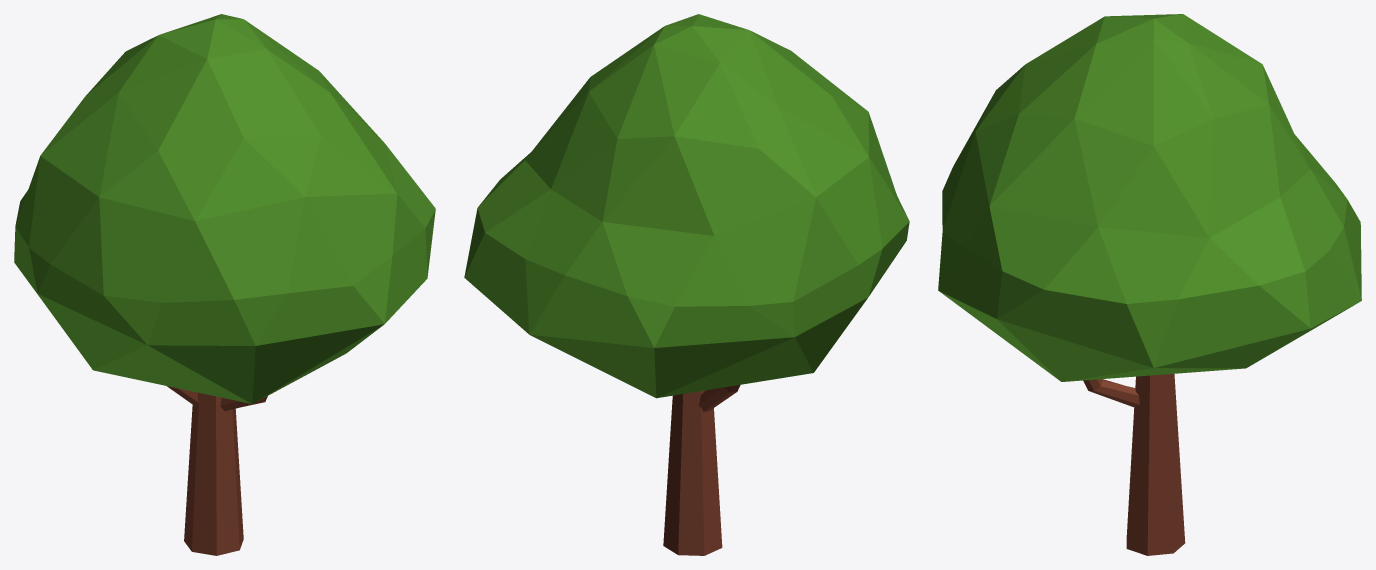
The model's file is TreeRound.fbx.
3 renders of one model, left to right at view 1: azimuth 30°, elevation 25°; view 2: azimuth 150°, elevation 25°; view 3: azimuth 270°, elevation 25°, orthographic.
Visible parts, largest first — view 1: nicertree; view 2: nicertree; view 3: nicertree.
Boxes of the visible parts, box(x1,y1,x2,y2) form: nicertree: box(14, 14, 435, 555); nicertree: box(464, 14, 909, 555); nicertree: box(938, 14, 1361, 555).
Size of the model in its own units: 2108 by 2794 by 2043.
